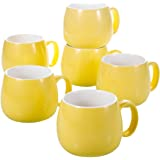Mug: (58, 86, 140, 158), (1, 65, 72, 123), (98, 50, 160, 106), (62, 39, 124, 87), (64, 1, 119, 48), (2, 32, 58, 75)
